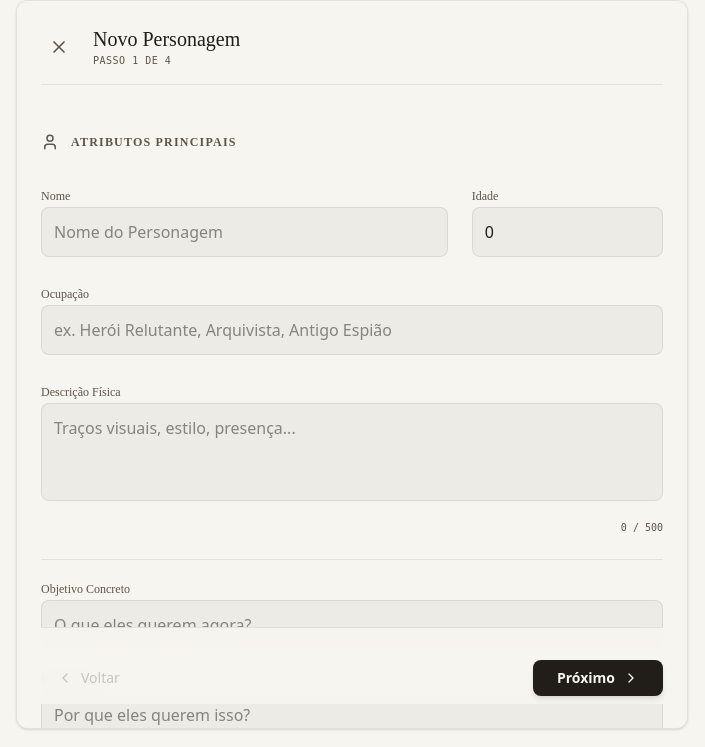
Test: CharacterWizard › should render OCEAN radar chart in step 2
Go to Step 2
Click the button "Próximo": (598, 678) [533,660,663,696]
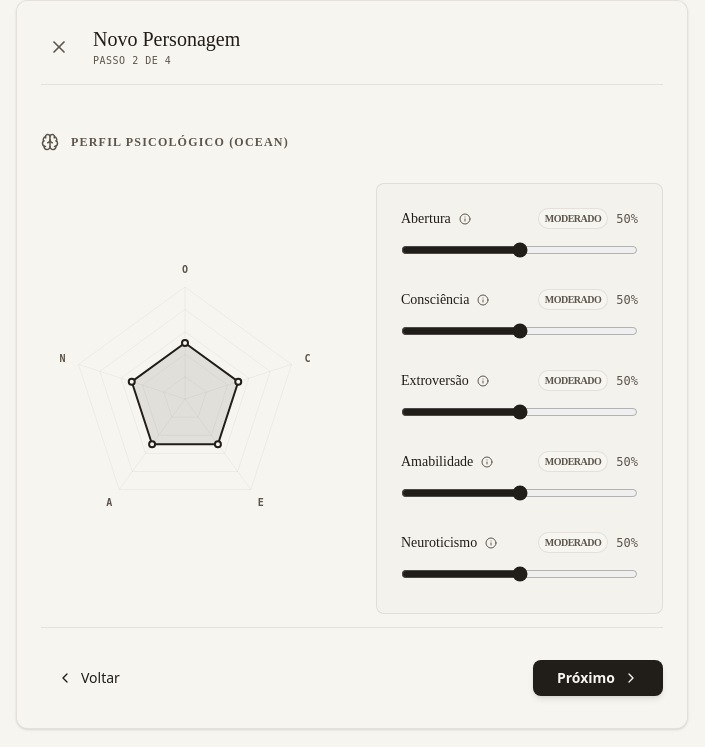
Expected: the element with test id "ocean-radar-chart" is shown, [41,258,328,538]
